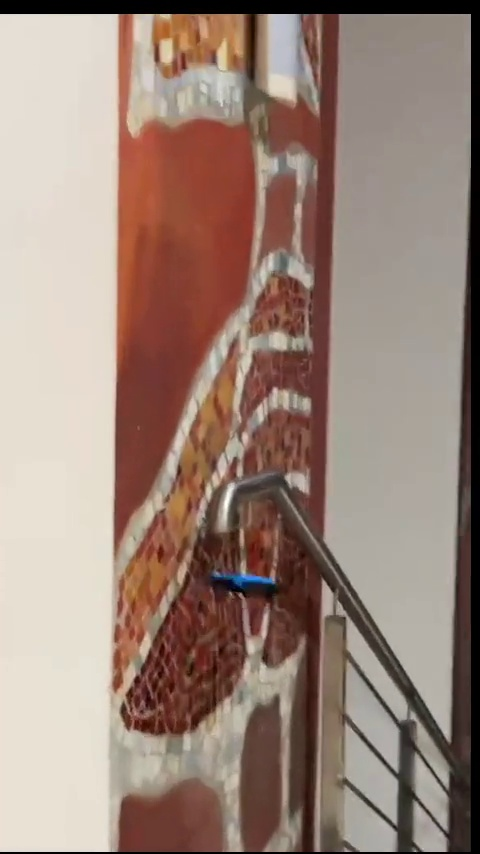drone: (207, 570, 278, 601)
